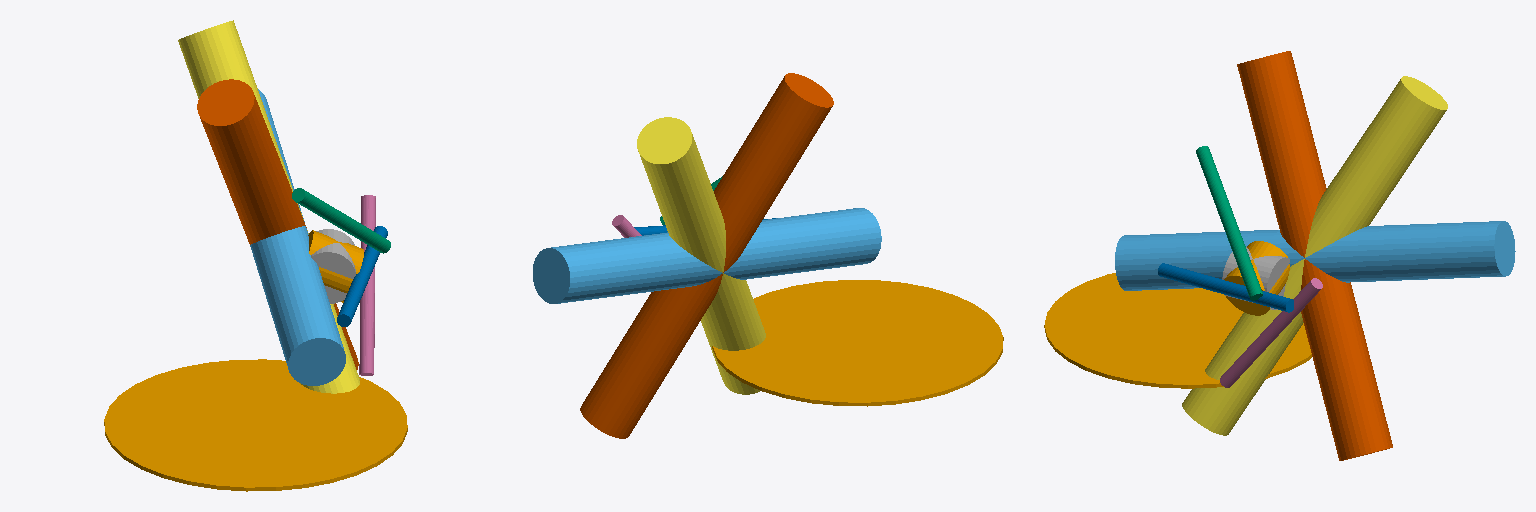
robot.urdf — pepe:
<?xml version="1.0"?><robot name="pepe">
	<link name="0">
		<visual>
			<geometry>
				<cylinder length="0.018174297981505827" radius="0.6424735284075379"/>
			</geometry>
		</visual>
		<collision>
			<geometry>
				<cylinder length="0.018174297981505827" radius="0.6424735284075379"/>
			</geometry>
		</collision>
		<inertial>
			<mass value="0.023567743000224836"/>
			<inertia ixx="0.03" iyy="0.03" izz="0.03" ixy="0" ixz="0" iyx="0"/>
		</inertial>
	</link>
	<link name="11">
		<visual>
			<geometry>
				<cylinder length="1.839507235408606" radius="0.12511902567875632"/>
			</geometry>
		</visual>
		<collision>
			<geometry>
				<cylinder length="1.839507235408606" radius="0.12511902567875632"/>
			</geometry>
		</collision>
		<inertial>
			<mass value="0.09046864396305773"/>
			<inertia ixx="0.03" iyy="0.03" izz="0.03" ixy="0" ixz="0" iyx="0"/>
		</inertial>
	</link>
	<link name="22">
		<visual>
			<geometry>
				<cylinder length="0.7717981151381017" radius="0.031347511108527626"/>
			</geometry>
		</visual>
		<collision>
			<geometry>
				<cylinder length="0.7717981151381017" radius="0.031347511108527626"/>
			</geometry>
		</collision>
		<inertial>
			<mass value="0.002382647064768913"/>
			<inertia ixx="0.03" iyy="0.03" izz="0.03" ixy="0" ixz="0" iyx="0"/>
		</inertial>
	</link>
	<link name="13">
		<visual>
			<geometry>
				<cylinder length="1.839507235408606" radius="0.12511902567875632"/>
			</geometry>
		</visual>
		<collision>
			<geometry>
				<cylinder length="1.839507235408606" radius="0.12511902567875632"/>
			</geometry>
		</collision>
		<inertial>
			<mass value="0.09046864396305773"/>
			<inertia ixx="0.03" iyy="0.03" izz="0.03" ixy="0" ixz="0" iyx="0"/>
		</inertial>
	</link>
	<link name="24">
		<visual>
			<geometry>
				<cylinder length="0.7717981151381017" radius="0.031347511108527626"/>
			</geometry>
		</visual>
		<collision>
			<geometry>
				<cylinder length="0.7717981151381017" radius="0.031347511108527626"/>
			</geometry>
		</collision>
		<inertial>
			<mass value="0.002382647064768913"/>
			<inertia ixx="0.03" iyy="0.03" izz="0.03" ixy="0" ixz="0" iyx="0"/>
		</inertial>
	</link>
	<link name="15">
		<visual>
			<geometry>
				<cylinder length="1.839507235408606" radius="0.12511902567875632"/>
			</geometry>
		</visual>
		<collision>
			<geometry>
				<cylinder length="1.839507235408606" radius="0.12511902567875632"/>
			</geometry>
		</collision>
		<inertial>
			<mass value="0.09046864396305773"/>
			<inertia ixx="0.03" iyy="0.03" izz="0.03" ixy="0" ixz="0" iyx="0"/>
		</inertial>
	</link>
	<link name="26">
		<visual>
			<geometry>
				<cylinder length="0.7717981151381017" radius="0.031347511108527626"/>
			</geometry>
		</visual>
		<collision>
			<geometry>
				<cylinder length="0.7717981151381017" radius="0.031347511108527626"/>
			</geometry>
		</collision>
		<inertial>
			<mass value="0.002382647064768913"/>
			<inertia ixx="0.03" iyy="0.03" izz="0.03" ixy="0" ixz="0" iyx="0"/>
		</inertial>
	</link>
	<link name="37">
		<visual>
			<geometry>
				<cylinder length="0.23164881858613828" radius="0.12174273459225626"/>
			</geometry>
		</visual>
		<collision>
			<geometry>
				<cylinder length="0.23164881858613828" radius="0.12174273459225626"/>
			</geometry>
		</collision>
		<inertial>
			<mass value="0.010786140365332961"/>
			<inertia ixx="0.03" iyy="0.03" izz="0.03" ixy="0" ixz="0" iyx="0"/>
		</inertial>
	</link>
	<link name="38">
		<visual>
			<geometry>
				<cylinder length="0.23164881858613828" radius="0.12174273459225626"/>
			</geometry>
		</visual>
		<collision>
			<geometry>
				<cylinder length="0.23164881858613828" radius="0.12174273459225626"/>
			</geometry>
		</collision>
		<inertial>
			<mass value="0.010786140365332961"/>
			<inertia ixx="0.03" iyy="0.03" izz="0.03" ixy="0" ixz="0" iyx="0"/>
		</inertial>
	</link>
	<joint name="11_to_0" type="revolute">
		<parent link="0"/>
		<child link="11"/>
		<axis xyz="1 0 0"/>
		<limit effort="1" upper="-3.1415" lower="3.1415" velocity="1"/>
		<origin rpy="1.7738637928017282 5.963858622773595 5.879460304081527" xyz="0.4372403730552535 0.5720167141150289 0.5525281740240497"/>
	</joint>
	<joint name="22_to_11" type="revolute">
		<parent link="11"/>
		<child link="22"/>
		<axis xyz="0 1 0"/>
		<limit effort="1" upper="-3.1415" lower="3.1415" velocity="1"/>
		<origin rpy="5.256361571936616 0.6394971842820824 0.7130391347819616" xyz="0.2845973023784486 0.18217004303152928 0.2879049478418273"/>
	</joint>
	<joint name="13_to_0" type="revolute">
		<parent link="0"/>
		<child link="13"/>
		<axis xyz="1 0 0"/>
		<limit effort="1" upper="-3.1415" lower="3.1415" velocity="1"/>
		<origin rpy="2.660795689202592 5.963858622773595 5.879460304081527" xyz="0.4372403730552535 0.5720167141150289 0.5525281740240497"/>
	</joint>
	<joint name="24_to_13" type="revolute">
		<parent link="13"/>
		<child link="24"/>
		<axis xyz="0 1 0"/>
		<limit effort="1" upper="-3.1415" lower="3.1415" velocity="1"/>
		<origin rpy="5.256361571936616 0.6394971842820824 0.7130391347819616" xyz="0.2845973023784486 0.18217004303152928 0.2879049478418273"/>
	</joint>
	<joint name="15_to_0" type="revolute">
		<parent link="0"/>
		<child link="15"/>
		<axis xyz="1 0 0"/>
		<limit effort="1" upper="-3.1415" lower="3.1415" velocity="1"/>
		<origin rpy="3.5477275856034565 5.963858622773595 5.879460304081527" xyz="0.4372403730552535 0.5720167141150289 0.5525281740240497"/>
	</joint>
	<joint name="26_to_15" type="revolute">
		<parent link="15"/>
		<child link="26"/>
		<axis xyz="0 1 0"/>
		<limit effort="1" upper="-3.1415" lower="3.1415" velocity="1"/>
		<origin rpy="5.256361571936616 0.6394971842820824 0.7130391347819616" xyz="0.2845973023784486 0.18217004303152928 0.2879049478418273"/>
	</joint>
	<joint name="37_to_0" type="revolute">
		<parent link="0"/>
		<child link="37"/>
		<axis xyz="0 0 1"/>
		<limit effort="1" upper="-3.1415" lower="3.1415" velocity="1"/>
		<origin rpy="7.85595574327734 1.9542550809257158 5.746833030993156" xyz="0.5352741257648354 0.31669337699039557 0.48784208860598877"/>
	</joint>
	<joint name="38_to_0" type="revolute">
		<parent link="0"/>
		<child link="38"/>
		<axis xyz="0 0 1"/>
		<limit effort="1" upper="-3.1415" lower="3.1415" velocity="1"/>
		<origin rpy="9.427146891932807 1.9542550809257158 5.746833030993156" xyz="0.5352741257648354 0.31669337699039557 0.48784208860598877"/>
	</joint>
</robot>

--- Facts derived from the render (not from the file) ---
The picture shows the robot from 3 angles, left to right: view 1: azimuth 30°, elevation 25°; view 2: azimuth 150°, elevation 25°; view 3: azimuth 270°, elevation 25°; orthographic projection.
Robot: pepe — 9 links, 8 joints (8 revolute); root link 0; default pose: every joint at zero.
Links seen in each view (by area): view 1: 0, 15, 11, 13, 26, 22, 37, 24, 38; view 2: 0, 15, 11, 13; view 3: 15, 0, 11, 13, 22, 26, 24, 38, 37.
Boxes of the visible links, left/top/right/bottom form: 0: left=104, top=359, right=407, bottom=491; 15: left=197, top=79, right=358, bottom=369; 11: left=250, top=89, right=345, bottom=385; 13: left=178, top=20, right=359, bottom=393; 26: left=359, top=195, right=375, bottom=375; 22: left=292, top=188, right=390, bottom=253; 37: left=311, top=229, right=355, bottom=303; 24: left=337, top=226, right=387, bottom=326; 38: left=308, top=230, right=363, bottom=302; 0: left=712, top=280, right=1003, bottom=406; 15: left=580, top=73, right=833, bottom=438; 11: left=533, top=208, right=881, bottom=303; 13: left=637, top=117, right=765, bottom=394; 15: left=1237, top=51, right=1392, bottom=460; 0: left=1044, top=273, right=1311, bottom=388; 11: left=1115, top=221, right=1515, bottom=290; 13: left=1182, top=76, right=1447, bottom=435; 22: left=1196, top=146, right=1262, bottom=300; 26: left=1220, top=278, right=1322, bottom=387; 24: left=1158, top=263, right=1293, bottom=312; 38: left=1224, top=241, right=1289, bottom=315; 37: left=1222, top=247, right=1289, bottom=309.
Bounding box of the posed robot: 1.58 × 2.11 × 1.73 m (x, y, z).
Geometry: primitives only (box / cylinder / sphere), no mesh files.
